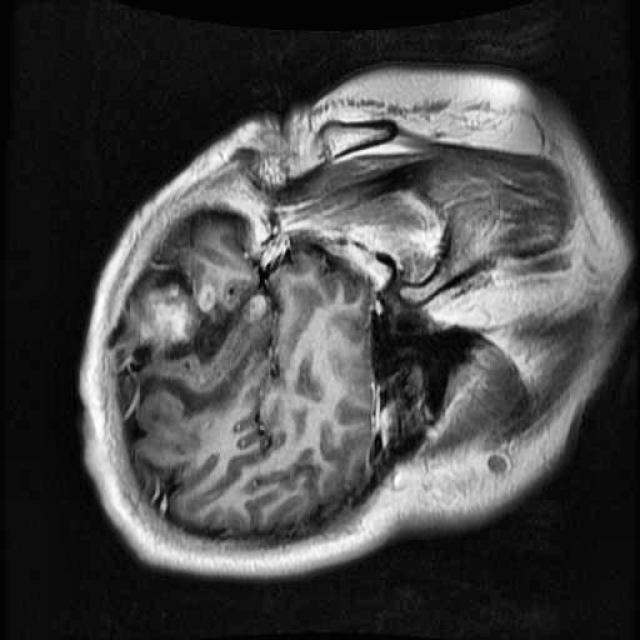Tumor: (118, 269, 222, 369)
